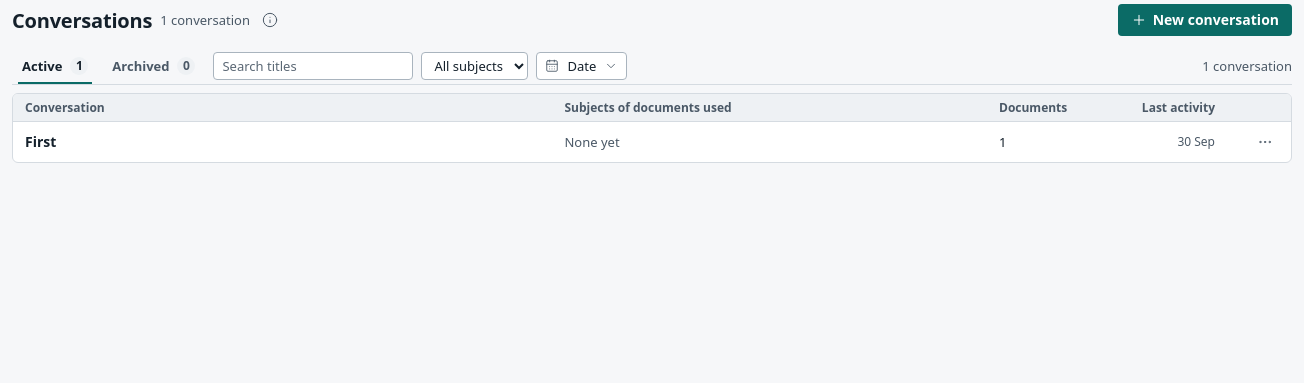
it: ConversationsPage › archiving › an empty Archived tab
Click the tab "Archived 0".
click(154, 66)  # box x1=102 y1=48 x2=205 y2=84
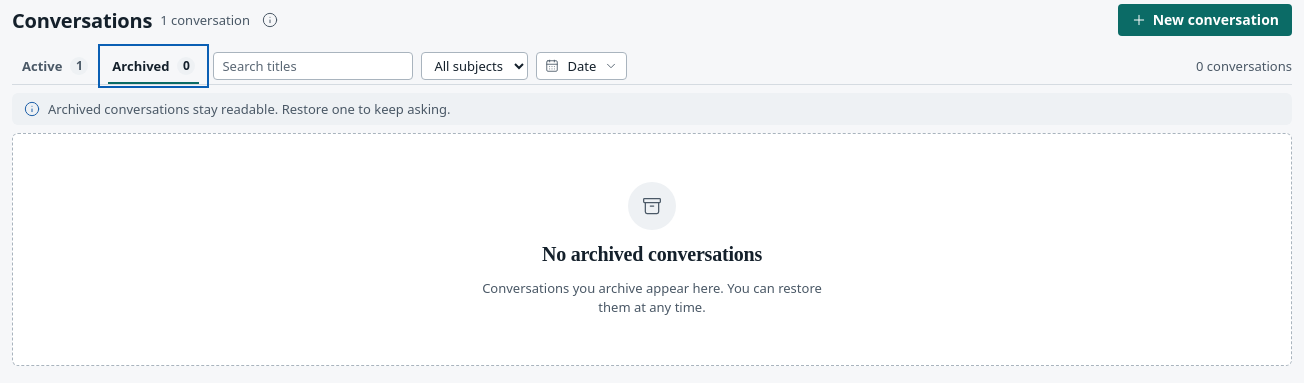
Result: the heading "No archived conversations" is shown at x1=542 y1=242 x2=762 y2=267
Result: the text "Conversations you archive appear here. You can restore them at any time." is shown at x1=481 y1=279 x2=823 y2=317
